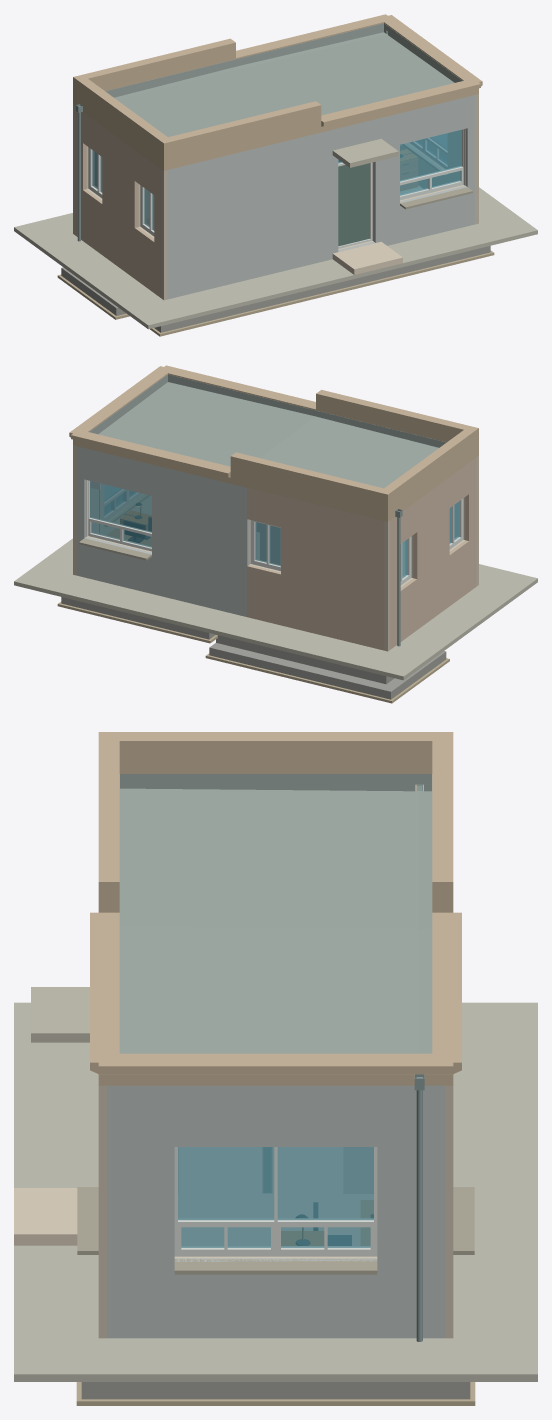
File: sample-1-full.glb
3 renders of one model, top to bottom at view 1: azimuth 30°, elevation 25°; view 2: azimuth 150°, elevation 25°; view 3: azimuth 270°, elevation 25°, orthographic. The views are drawn at different scales.
Parts seen in each view (by area): view 1: 외벽 마감 (×13), 지붕 방수·구배층, 외부 포장 폭 1000, 파라펫 (×4), 서측 높은 파라펫, 지붕 방수 치켜올림 (×2), 창문, 출입문, 줄기초 800×300, 창호 프레임 (×3), 외벽 모서리 마감 (×3), 지붕 몰딩 (×2) (+10 smaller); view 2: 외벽 마감 (×14), 지붕 방수·구배층, 외부 포장 폭 1000, 파라펫 (×4), 창문 (×2), 서측 높은 파라펫, PIT 매트 기초, 지붕 방수 치켜올림 (×2), 창호 프레임 (×3), 지붕 몰딩 (×2), PIT 벽 200, 외벽 모서리 마감 (×2) (+9 smaller); view 3: 지붕 방수·구배층, 외부 포장 폭 1000, 외벽 마감 (×4), 창문, 파라펫 (×4), 서측 높은 파라펫, 실내 바닥 마감, 줄기초 800×300 (×2), 동측 낮은 파라펫, 외부 창대석 T50×W350 (×3), 창호 프레임, 지붕 방수 치켜올림 (+8 smaller).
Part boxes in pixels (box(x1,y1,x2,y2)): 외벽 마감 (×13): box(75, 95, 474, 299); 지붕 방수·구배층: box(114, 32, 454, 136); 외부 포장 폭 1000: box(14, 187, 537, 329); 파라펫 (×4): box(83, 16, 478, 168); 서측 높은 파라펫: box(73, 74, 173, 170); 지붕 방수 치켜올림 (×2): box(105, 23, 462, 97); 창문: box(400, 129, 461, 195); 출입문: box(338, 163, 369, 246); 줄기초 800×300: box(154, 246, 490, 332); 창호 프레임 (×3): box(88, 129, 463, 236); 외벽 모서리 마감 (×3): box(73, 94, 478, 300); 지붕 몰딩 (×2): box(236, 14, 480, 126); 외벽 마감 (×14): box(77, 446, 476, 650); 지붕 방수·구배층: box(98, 382, 438, 488); 외부 포장 폭 1000: box(14, 538, 537, 680); 파라펫 (×4): box(73, 367, 468, 519); 창문 (×2): box(90, 481, 280, 565); 서측 높은 파라펫: box(378, 426, 478, 521); PIT 매트 기초: box(209, 643, 446, 699); 지붕 방수 치켜올림 (×2): box(89, 374, 446, 447); 창호 프레임 (×3): box(88, 480, 463, 571); 지붕 몰딩 (×2): box(71, 365, 315, 477); PIT 벽 200: box(223, 636, 378, 682); 외벽 모서리 마감 (×2): box(73, 445, 389, 651); 지붕 방수·구배층: box(120, 788, 431, 1053); 외부 포장 폭 1000: box(14, 1002, 537, 1381); 외벽 마감 (×4): box(107, 1085, 444, 1338); 창문: box(178, 1147, 373, 1247); 파라펫 (×4): box(98, 741, 453, 1085); 서측 높은 파라펫: box(98, 732, 453, 790); 실내 바닥 마감: box(178, 1147, 373, 1245); 줄기초 800×300 (×2): box(81, 1382, 470, 1399); 동측 낮은 파라펫: box(119, 1053, 432, 1085); 외부 창대석 T50×W350 (×3): box(77, 1187, 474, 1274); 창호 프레임: box(174, 1147, 377, 1256); 지붕 방수 치켜올림: box(120, 774, 431, 791).
Size of the model in its own units: 10.4 by 5.16 by 6.2.
